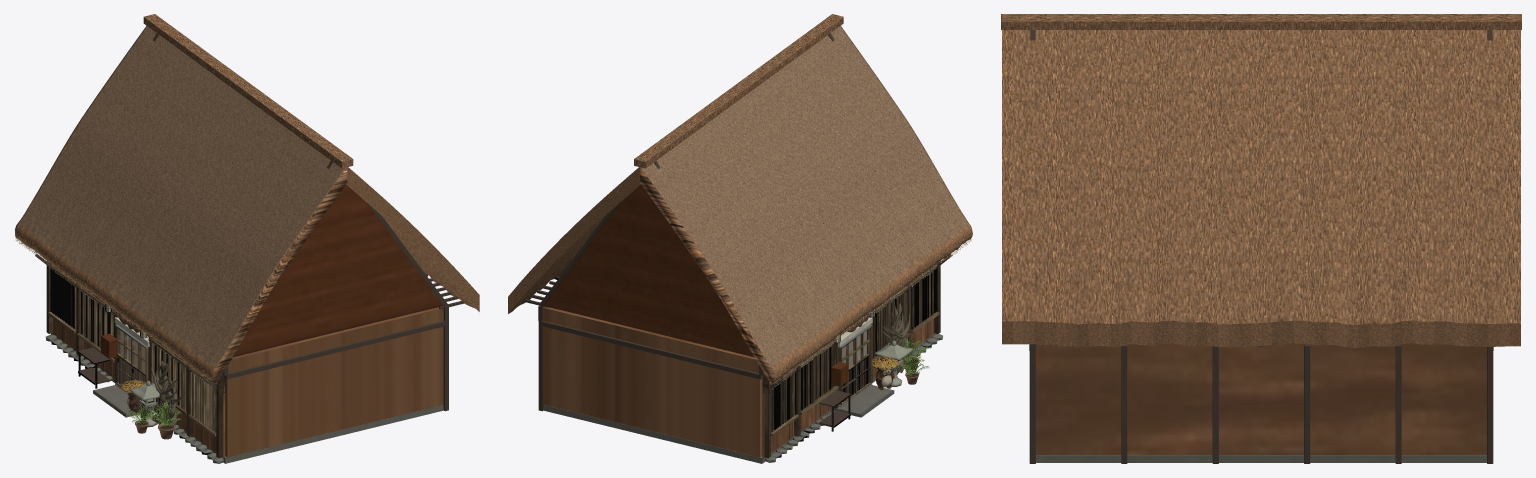
The model's file is irori-restaurant-v5.glb.
3 renders of one model, left to right at view 1: azimuth 30°, elevation 25°; view 2: azimuth 150°, elevation 25°; view 3: azimuth 270°, elevation 25°, orthographic. The views are drawn at different scales.
Visible parts, largest first — view 1: irori-v5-roof.002, irori-v5-body.002, irori-v5-fibers.002, irori-v5-garden.002; view 2: irori-v5-roof.002, irori-v5-body.002, irori-v5-fibers.002, irori-v5-garden.002; view 3: irori-v5-roof.002, irori-v5-body.002.
Part boxes in pixels (bbox=[...]): irori-v5-roof.002: bbox=[15, 14, 479, 384]; irori-v5-body.002: bbox=[35, 33, 464, 463]; irori-v5-fibers.002: bbox=[15, 166, 251, 384]; irori-v5-garden.002: bbox=[121, 355, 185, 439]; irori-v5-roof.002: bbox=[508, 14, 972, 384]; irori-v5-body.002: bbox=[524, 33, 952, 463]; irori-v5-fibers.002: bbox=[740, 161, 972, 384]; irori-v5-garden.002: bbox=[870, 299, 930, 390]; irori-v5-roof.002: bbox=[1001, 14, 1521, 347]; irori-v5-body.002: bbox=[1029, 30, 1493, 463].
Size of the model in its own units: 11.33 by 10.79 by 13.55.
Materials: 9 (4 with a texture image).
